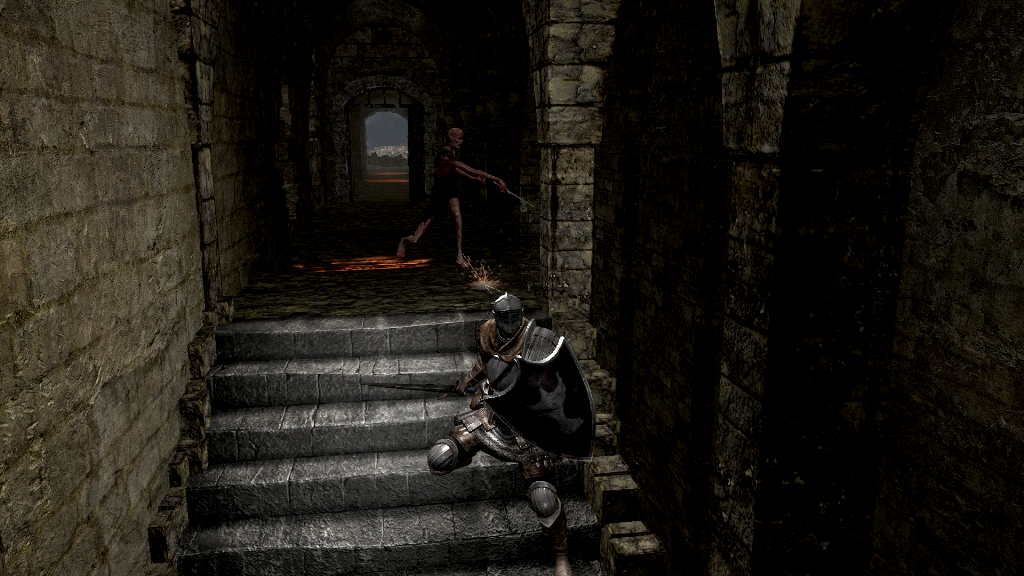hollow: (395, 126, 507, 267)
player: (359, 291, 598, 576)
